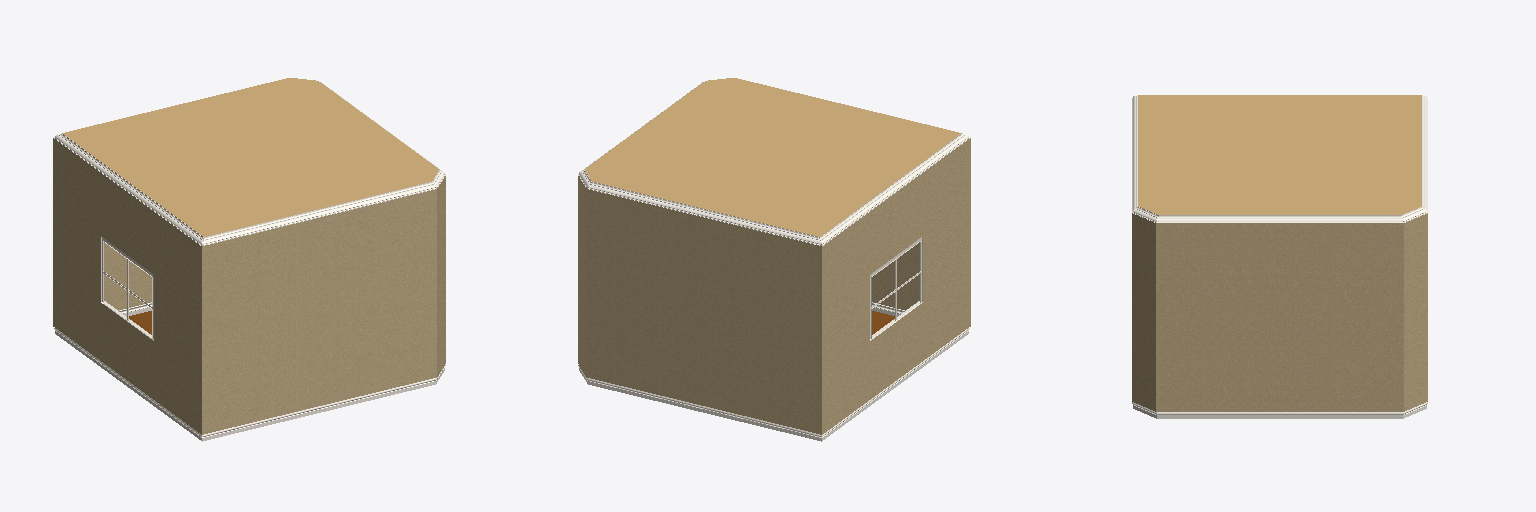
3 views of the same model, side by side, from view 1: azimuth 30°, elevation 25°; view 2: azimuth 150°, elevation 25°; view 3: azimuth 270°, elevation 25° (orthographic).
Parts seen in each view (by area): view 1: Mesh1 Model; view 2: Mesh1 Model; view 3: Mesh1 Model.
Part boxes in pixels (bbox=[...]): Mesh1 Model: bbox=[53, 78, 445, 441]; Mesh1 Model: bbox=[578, 78, 970, 441]; Mesh1 Model: bbox=[1132, 95, 1427, 418].
Size of the model in its own units: 3.66 by 2.74 by 3.66.
5 materials, 1 textured.